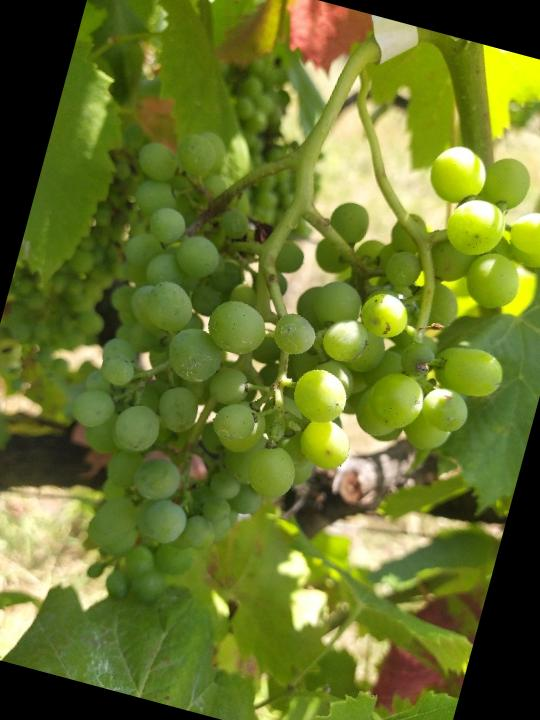grape: (20, 59, 540, 693)
